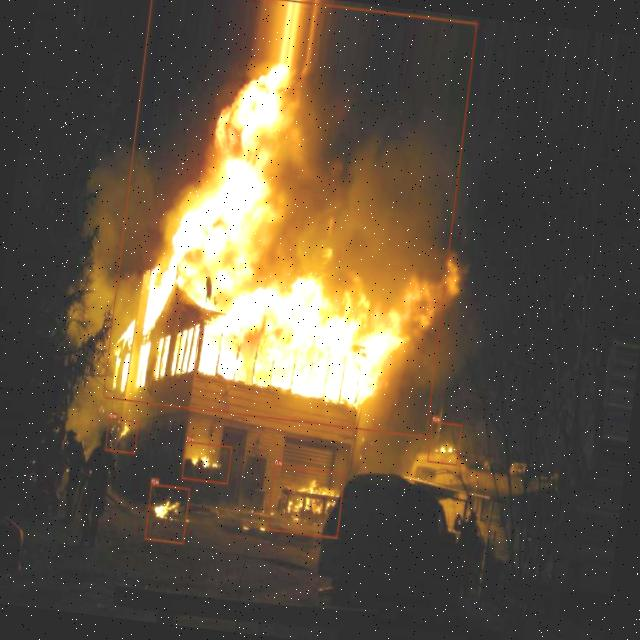fire: (101, 0, 476, 437), (266, 464, 346, 538), (143, 483, 190, 543), (181, 441, 232, 484), (426, 420, 462, 465), (104, 416, 139, 454)
